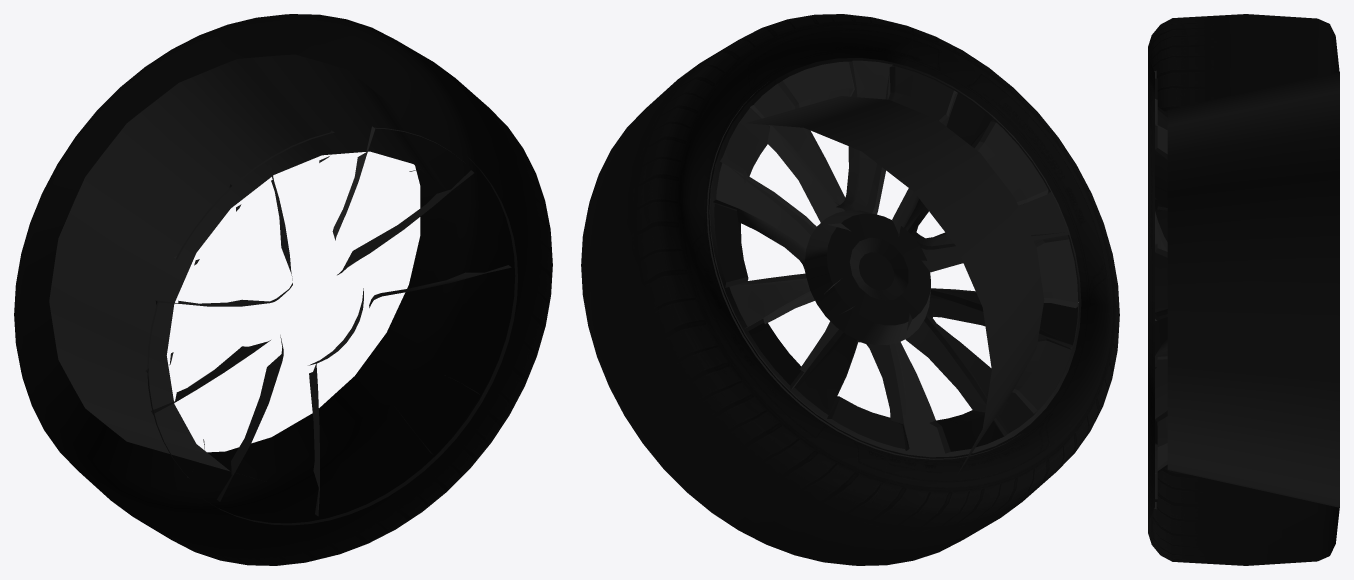
Rendered from New_Turbine_22.glb.
3 views of the same model, side by side, from view 1: azimuth 30°, elevation 25°; view 2: azimuth 150°, elevation 25°; view 3: azimuth 270°, elevation 25° (orthographic).
Parts seen in each view (by area): view 1: Wheel_New_Turbine_23; view 2: Wheel_New_Turbine_23; view 3: Wheel_New_Turbine_23.
Part boxes in pixels (bbox=[...]): Wheel_New_Turbine_23: bbox=[14, 14, 552, 565]; Wheel_New_Turbine_23: bbox=[581, 14, 1119, 565]; Wheel_New_Turbine_23: bbox=[1148, 14, 1339, 565].
Bounding box in the file's own units: 0.7474 × 0.7459 × 0.2599.
2 materials, 2 textured.
